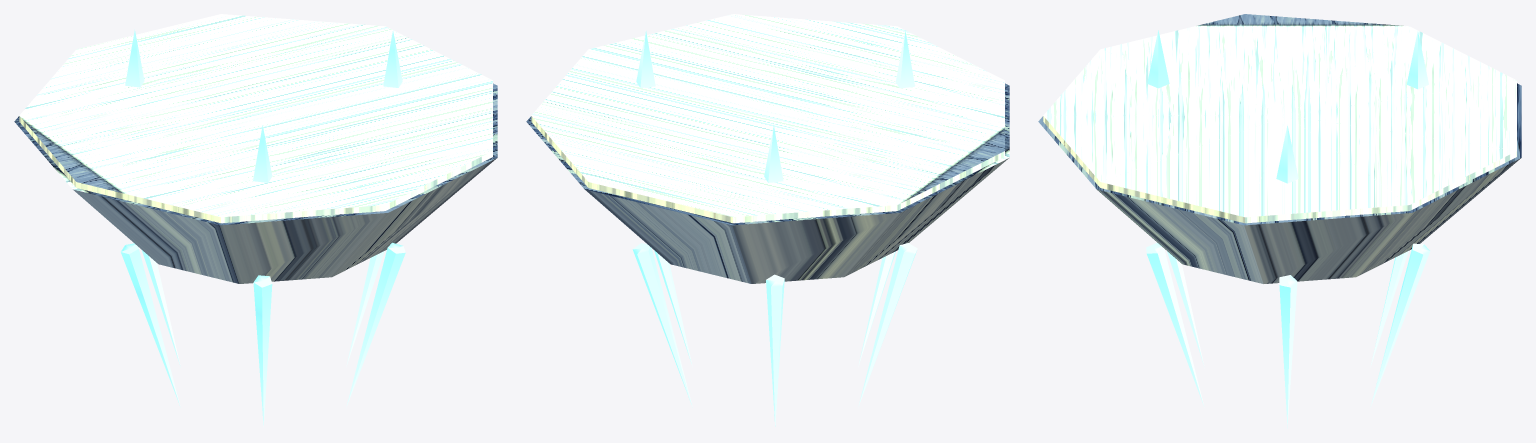
The model's file is floatingReef.glb.
The picture shows the model from 3 angles, left to right: view 1: azimuth 30°, elevation 25°; view 2: azimuth 150°, elevation 25°; view 3: azimuth 270°, elevation 25°; orthographic projection.
Parts seen in each view (by area): view 1: LOD0._kind_trim_band_reef_repeat_2_, LOD0._color_8fe8ff_emissive_8fe8ff_, LOD0._color_8fe8ff_emissive_8fe8ff_.001; view 2: LOD0._kind_trim_band_reef_repeat_2_, LOD0._color_8fe8ff_emissive_8fe8ff_, LOD0._color_8fe8ff_emissive_8fe8ff_.001; view 3: LOD0._kind_trim_band_reef_repeat_2_, LOD0._color_8fe8ff_emissive_8fe8ff_, LOD0._color_8fe8ff_emissive_8fe8ff_.001.
Boxes of the visible parts, left/top/right/bottom form: LOD0._kind_trim_band_reef_repeat_2_: left=14, top=14, right=497, bottom=283; LOD0._color_8fe8ff_emissive_8fe8ff_: left=121, top=242, right=405, bottom=427; LOD0._color_8fe8ff_emissive_8fe8ff_.001: left=125, top=29, right=402, bottom=182; LOD0._kind_trim_band_reef_repeat_2_: left=526, top=14, right=1009, bottom=283; LOD0._color_8fe8ff_emissive_8fe8ff_: left=632, top=243, right=917, bottom=426; LOD0._color_8fe8ff_emissive_8fe8ff_.001: left=636, top=30, right=914, bottom=182; LOD0._kind_trim_band_reef_repeat_2_: left=1038, top=14, right=1521, bottom=283; LOD0._color_8fe8ff_emissive_8fe8ff_: left=1146, top=243, right=1430, bottom=428; LOD0._color_8fe8ff_emissive_8fe8ff_.001: left=1147, top=30, right=1428, bottom=183.
Size of what is drawn, in the model's own units: 59.09 by 43.47 by 58.19.
3 materials, 1 textured.
